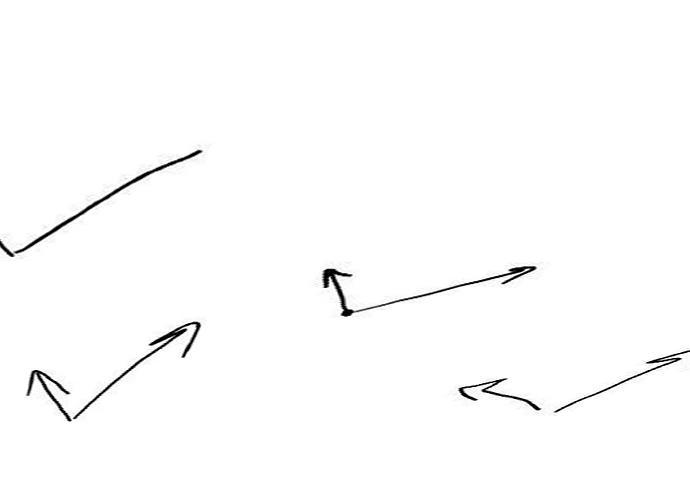arrow: (70, 316, 200, 418), (350, 262, 535, 315), (554, 347, 689, 412), (455, 377, 542, 410), (20, 368, 70, 419), (315, 260, 352, 314)
arrownohead: (18, 147, 200, 254)
